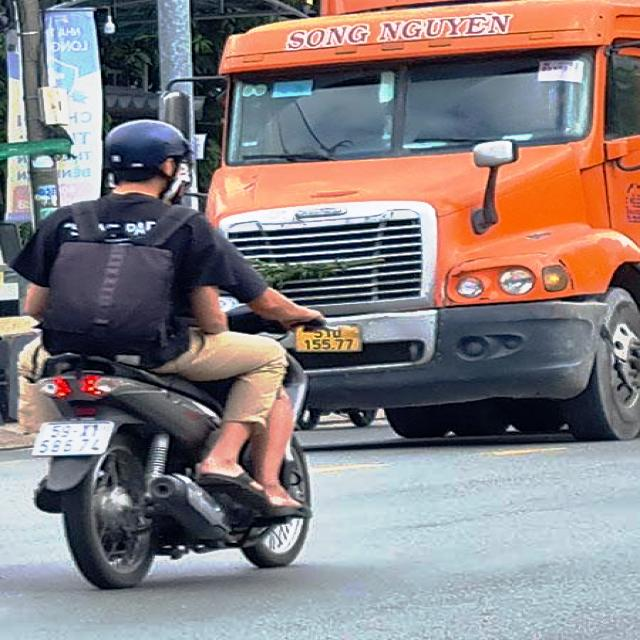license_plate: (32, 423, 116, 457)
